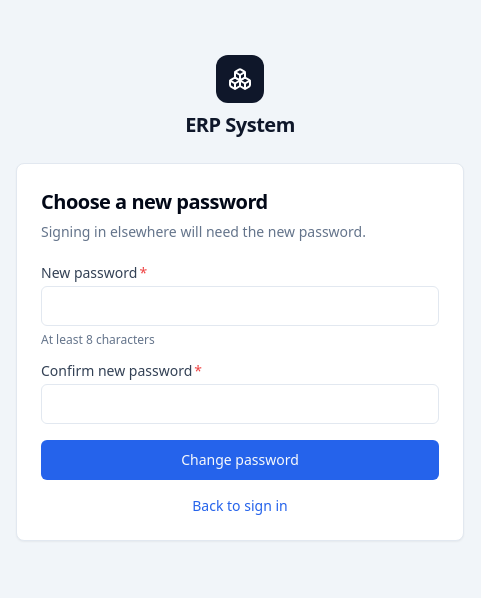
<ResetPassword /> › offers a new link when the server says this one is spent
Step 1. Type "a-good-password" into the password field labelled "New password*" → x=240, y=306, box [41,286,439,326]
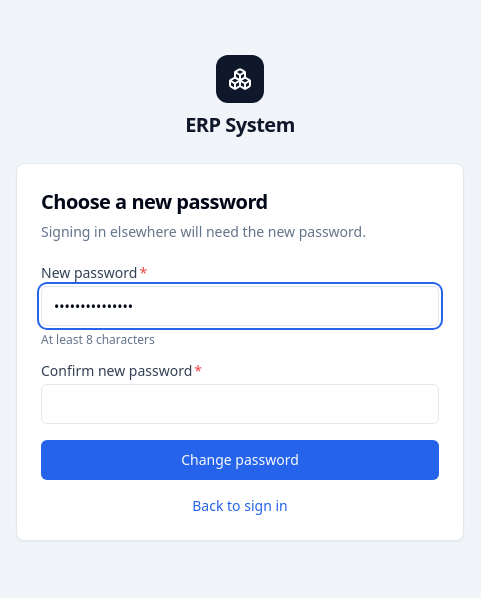
Step 2. Type "a-good-password" into the password field labelled "Confirm new password*" → x=240, y=404, box [41,384,439,424]
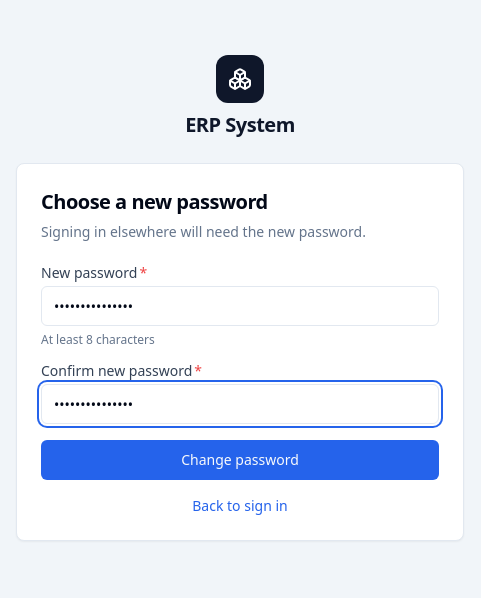
Step 3. Click the button "Change password" → x=240, y=460, box [41,440,439,480]
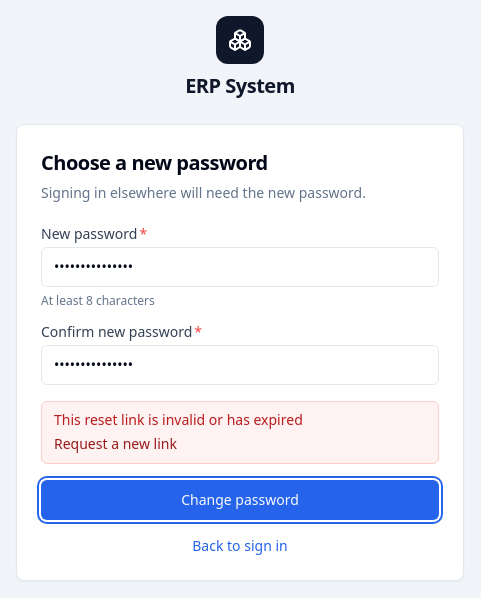
Result: the message shows "invalid or has expired" at [54,410,303,428]
Result: the link "Request a new link" is shown at [54,434,177,454]
